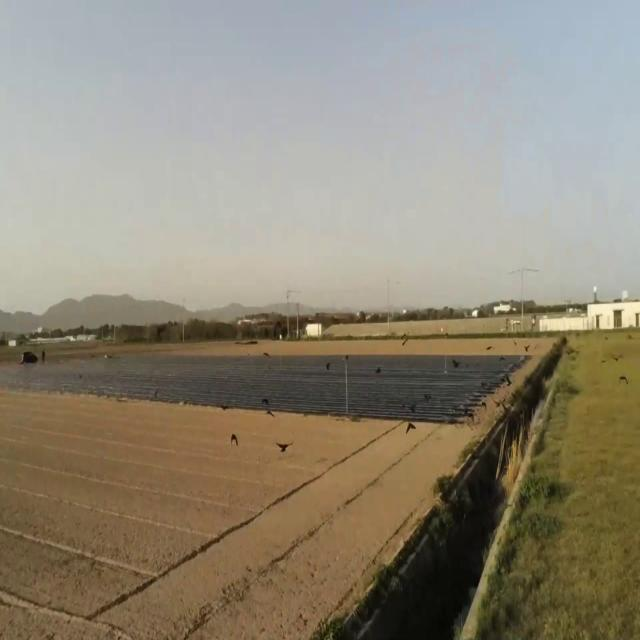bird: (275, 433, 292, 460), (262, 393, 274, 414), (230, 427, 239, 451), (405, 418, 416, 436), (613, 349, 623, 364), (423, 388, 431, 402), (452, 355, 458, 370)
